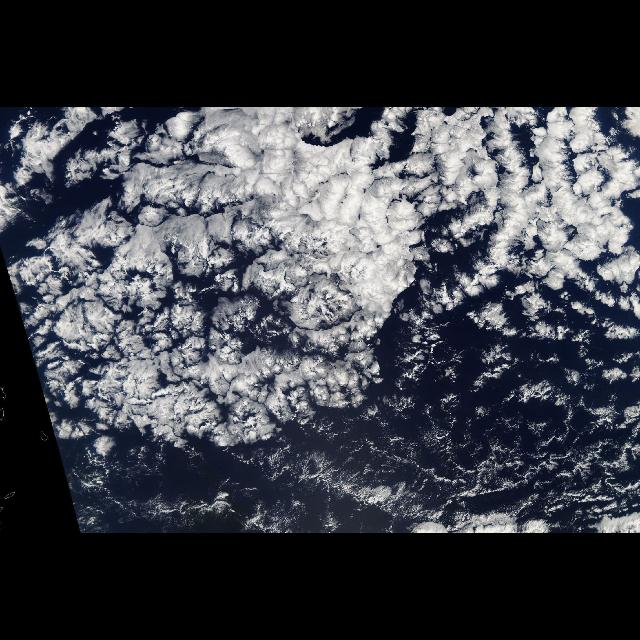Flower: (6, 108, 634, 472)
